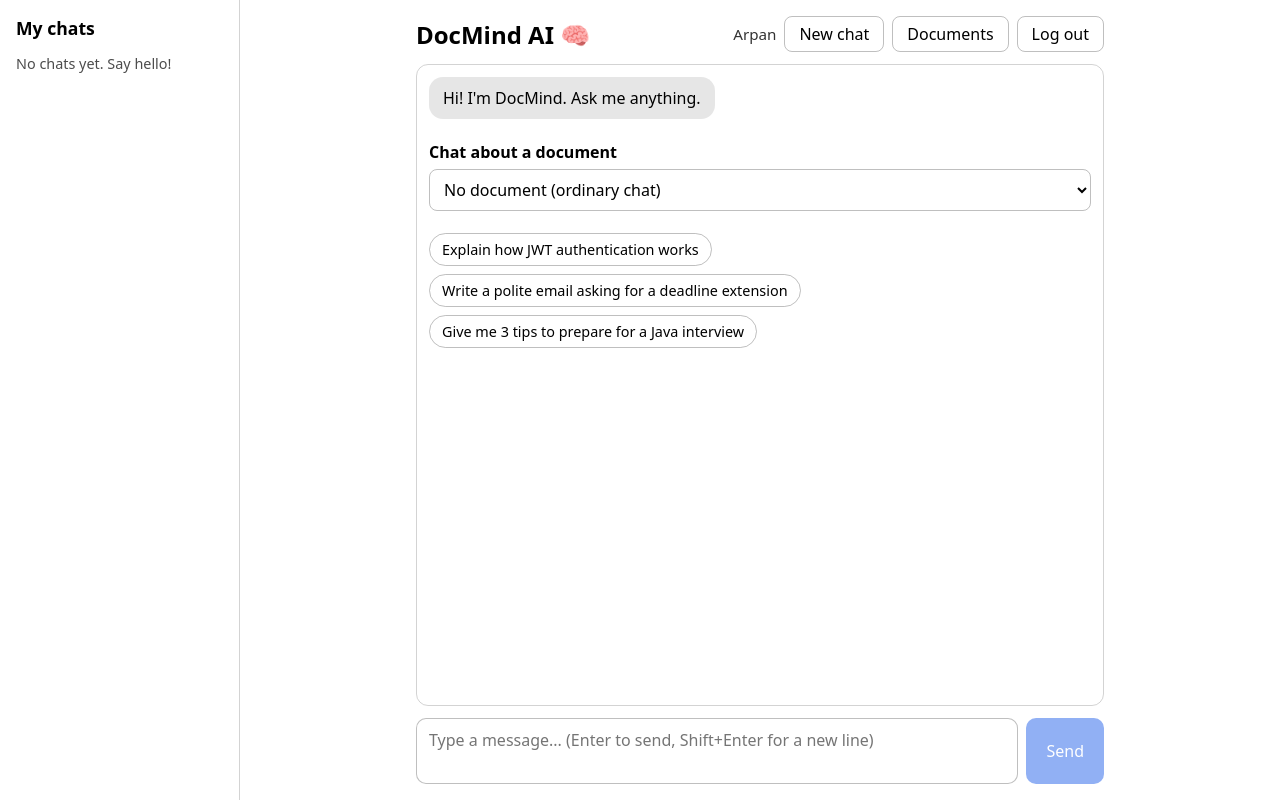
ChatPage and documents › explains for a long document that only the matching parts are read, even before the chat list is refreshed
Select "book.pdf (300 pages)" in the dropdown labelled "Chat about a document". click: {"x": 760, "y": 190}
box: [429,169,1091,211]
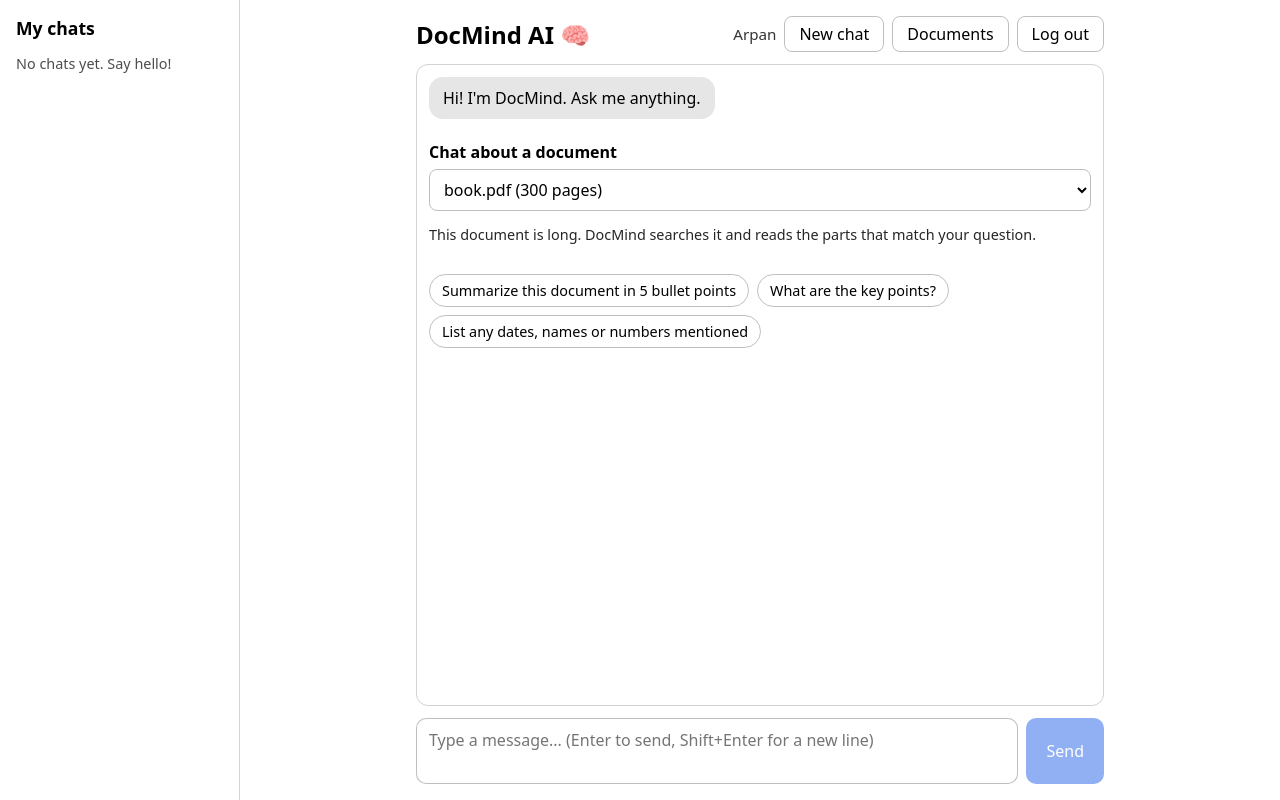
Replace the text in the text box named "Your message" with "What is the final secret word?". click: {"x": 717, "y": 751}
box: [416,718,1018,784]
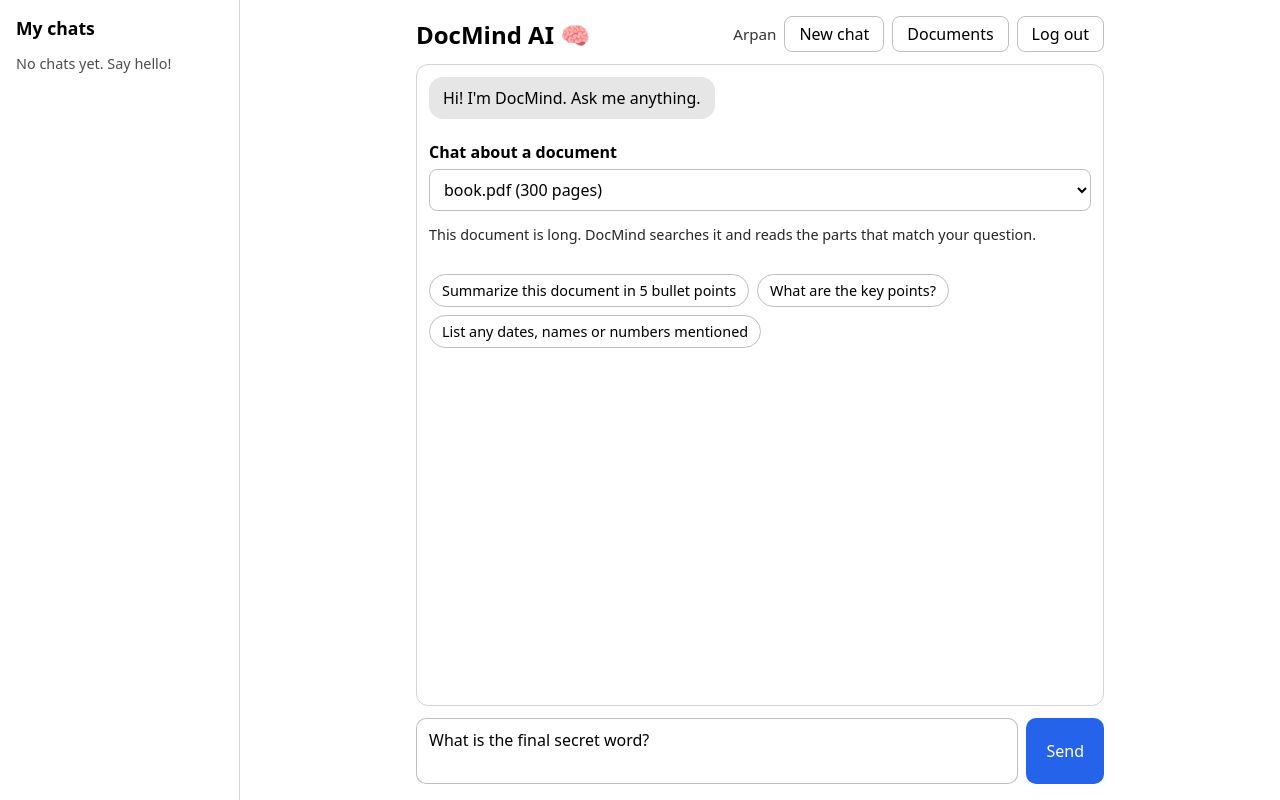
Click the button "Send". click: {"x": 1065, "y": 751}
box: [1026,718,1104,784]
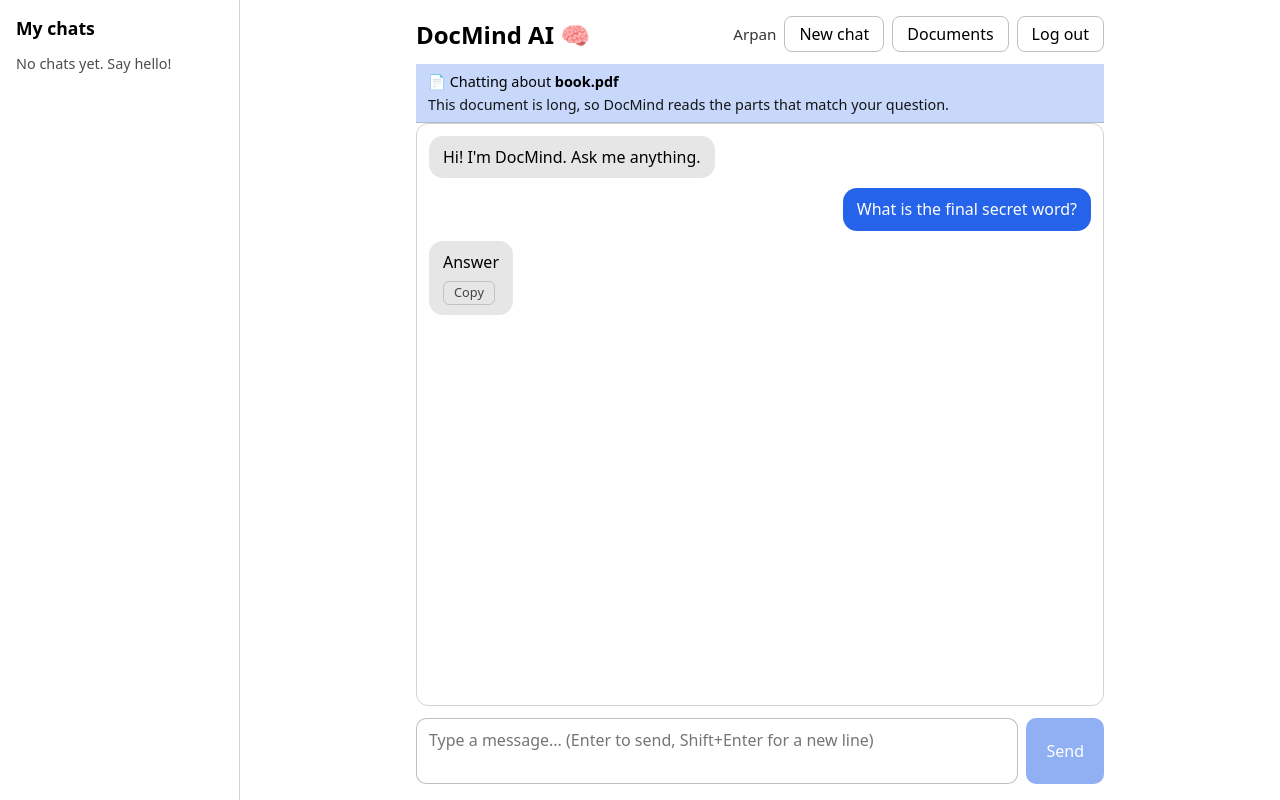
Result: the text "reads the parts that match your question" is shown at [428,95,949,114]
